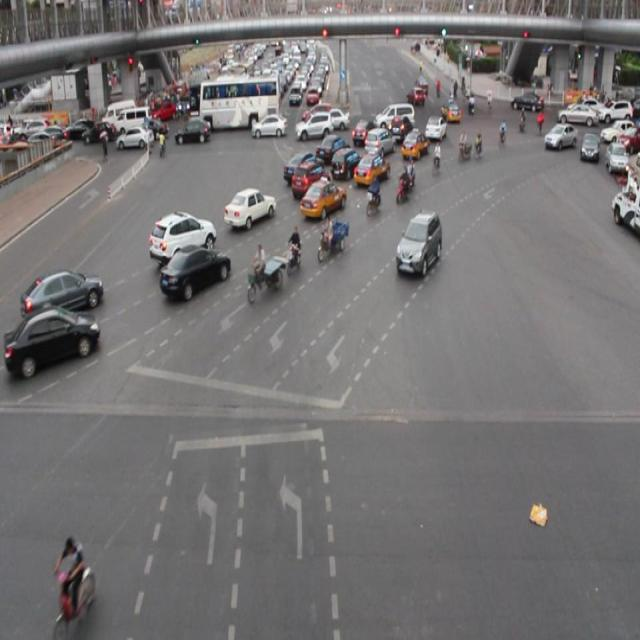car: (1, 306, 97, 376), (22, 270, 104, 318), (160, 244, 232, 296), (148, 210, 216, 262), (394, 208, 441, 272), (223, 187, 276, 230), (299, 179, 346, 217), (353, 152, 389, 187), (290, 162, 327, 196), (283, 152, 318, 185), (328, 146, 361, 181), (542, 121, 576, 152), (400, 129, 428, 164), (364, 128, 394, 159), (315, 133, 346, 162)
